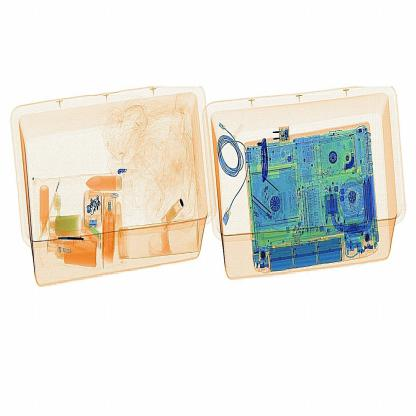knife: (253, 128, 283, 196)
